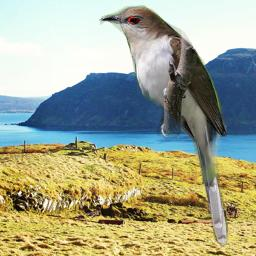Cuckoo: (98, 5, 229, 247)
